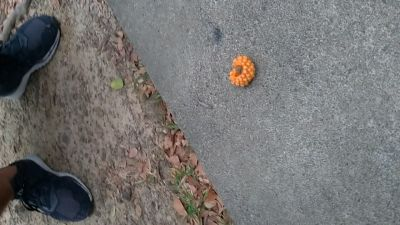eggs: (227, 55, 257, 91)
